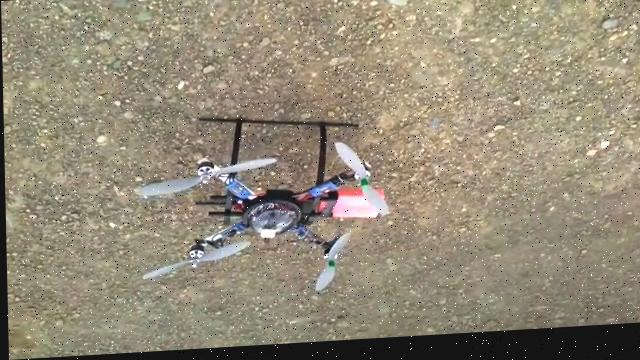drone: (138, 111, 390, 309)
